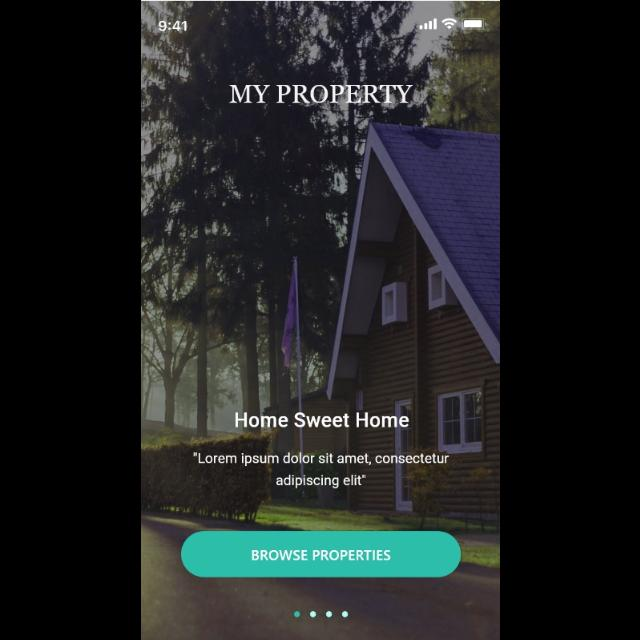backgroundimage: (141, 1, 499, 640)
pageindicator: (292, 610, 348, 618)
text: (192, 452, 448, 488), (228, 86, 412, 104), (235, 412, 409, 428)
textbutton: (180, 532, 460, 578)
uppertaskbar: (158, 18, 488, 32)
